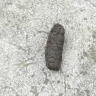Dog: (46, 23, 65, 72)
